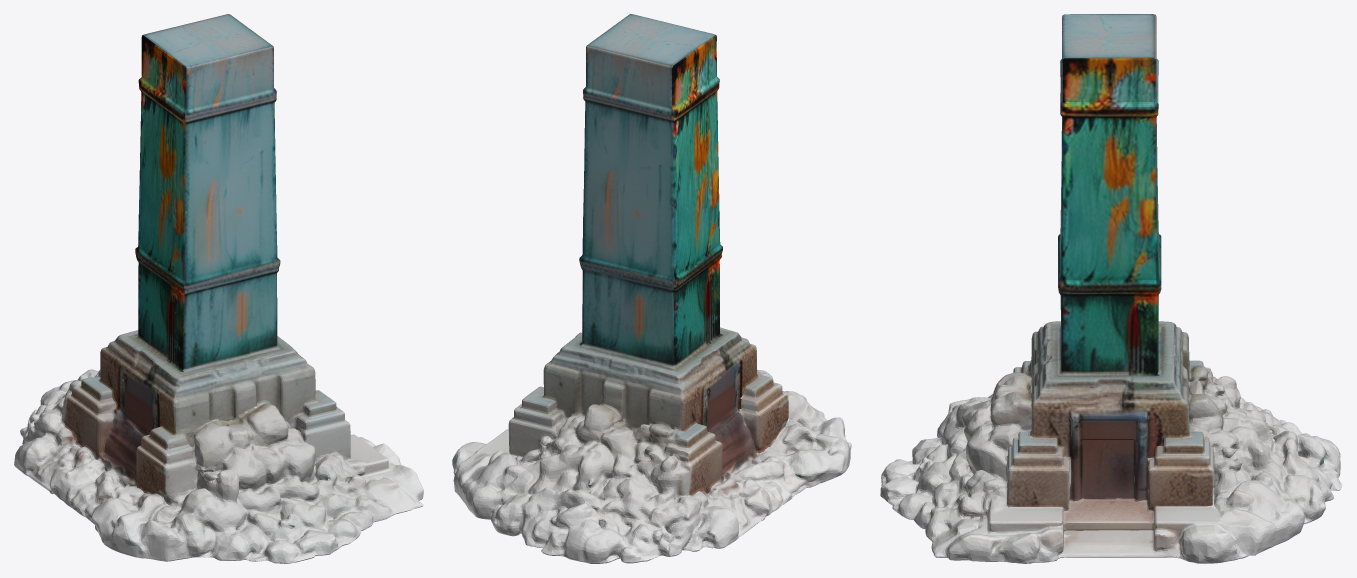
File: weathered-monolith-pillar-generated-2026-04-18t22-01-36-007z-generated-2026-04-19T00-23-01-827Z.glb
3 views of the same model, side by side, from view 1: azimuth 30°, elevation 25°; view 2: azimuth 150°, elevation 25°; view 3: azimuth 270°, elevation 25° (orthographic). The views are drawn at different scales.
Parts seen in each view (by area): view 1: temp_mesh.ply; view 2: temp_mesh.ply; view 3: temp_mesh.ply.
Boxes of the visible parts, left/top/right/bottom form: temp_mesh.ply: left=14, top=14, right=423, bottom=563; temp_mesh.ply: left=452, top=14, right=851, bottom=563; temp_mesh.ply: left=880, top=14, right=1342, bottom=563.
Bounding box in the file's own units: 1.4 × 1.97 × 1.82.
Materials: 1 (1 with a texture image).
